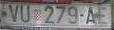-: (79, 14, 84, 18)
2: (44, 5, 55, 25)
7: (56, 6, 66, 25)
9: (67, 6, 78, 26)
A: (85, 7, 96, 25)
E: (98, 6, 108, 25)
U: (19, 3, 31, 25)
V: (8, 3, 19, 24)
